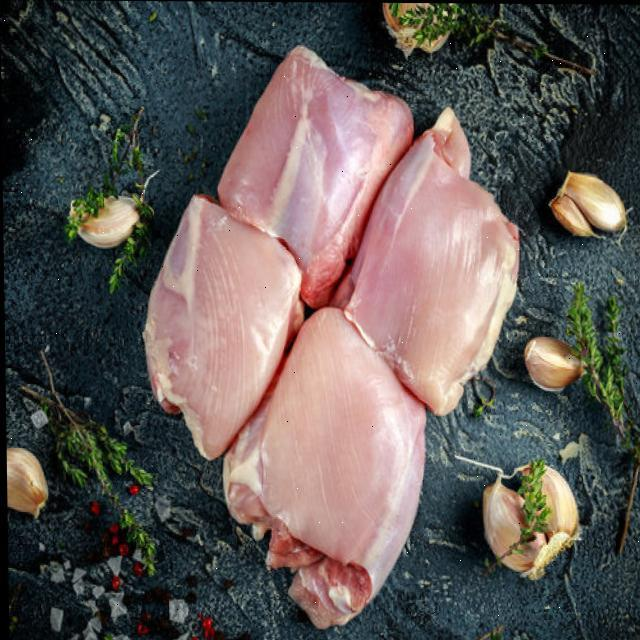thigh: (224, 320, 456, 610), (212, 27, 420, 294), (358, 116, 526, 405), (127, 184, 295, 444)
